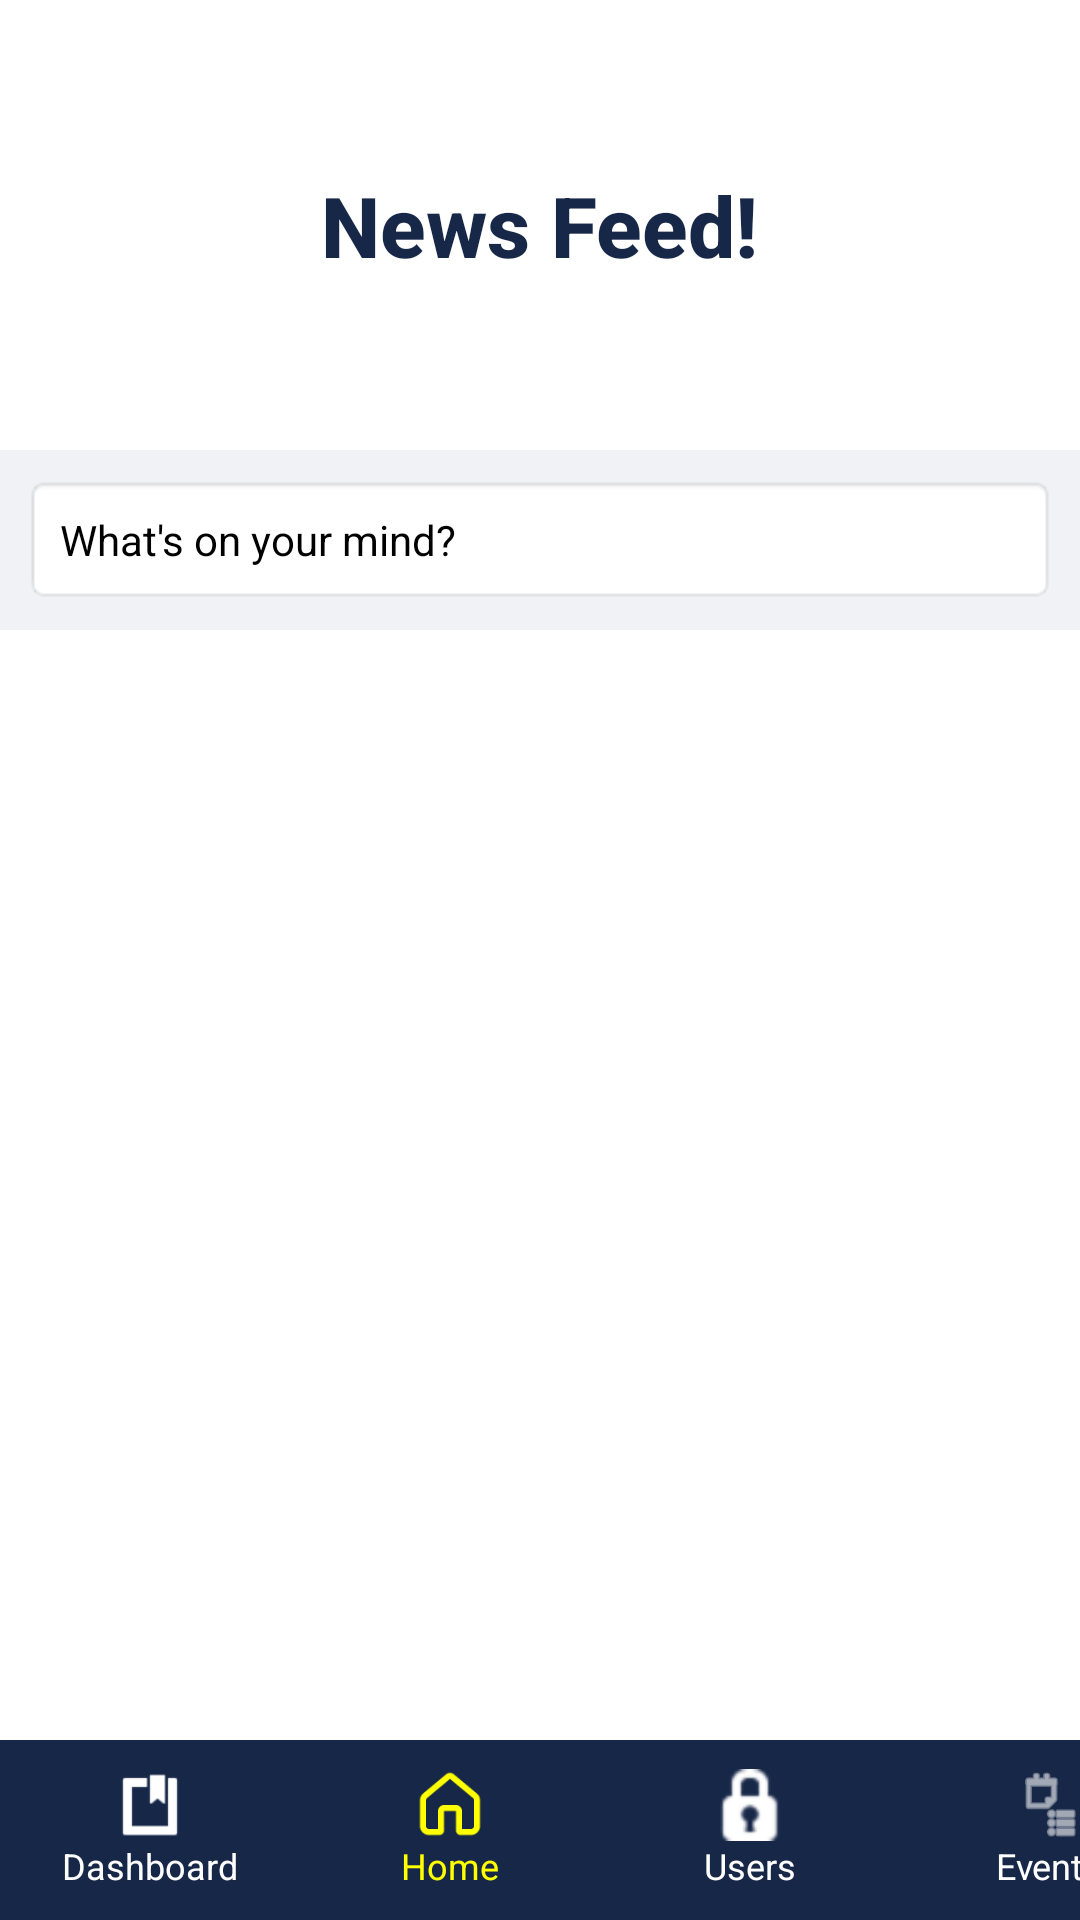

Icon click points for this 1080*1920 phone screenshot, format (x,y):
agenda: (1050,1805)
secure: (749,1805)
